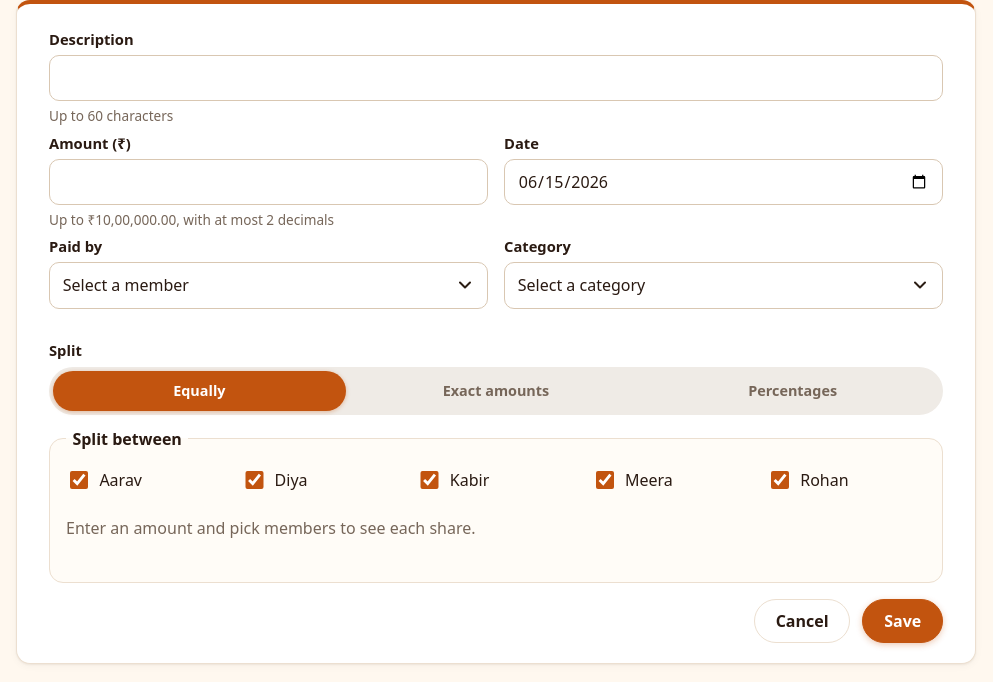
Scenario: ExpenseForm › clears an error once the field is fixed
The width and height of the screenshot is (993, 682).
Click the button "Save" at coordinates (903, 621), box x1=862 y1=599 x2=943 y2=643
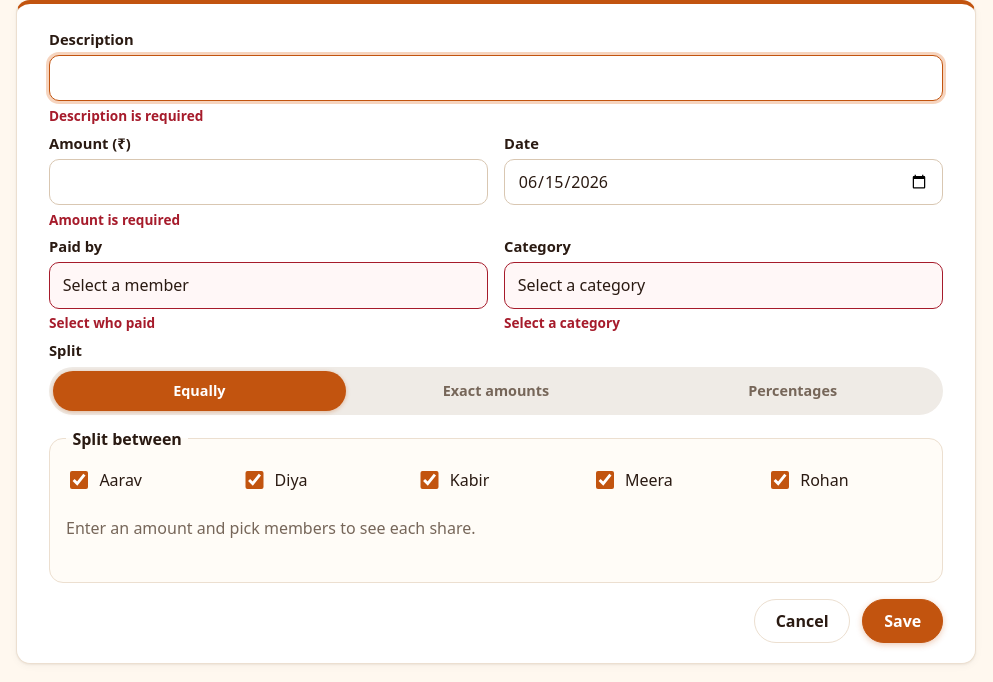
expect the text "Description is required" is shown: met, box x1=49 y1=106 x2=203 y2=125
Type "Taxi" into the field labelled "Description" at coordinates (496, 78), box x1=49 y1=55 x2=943 y2=101
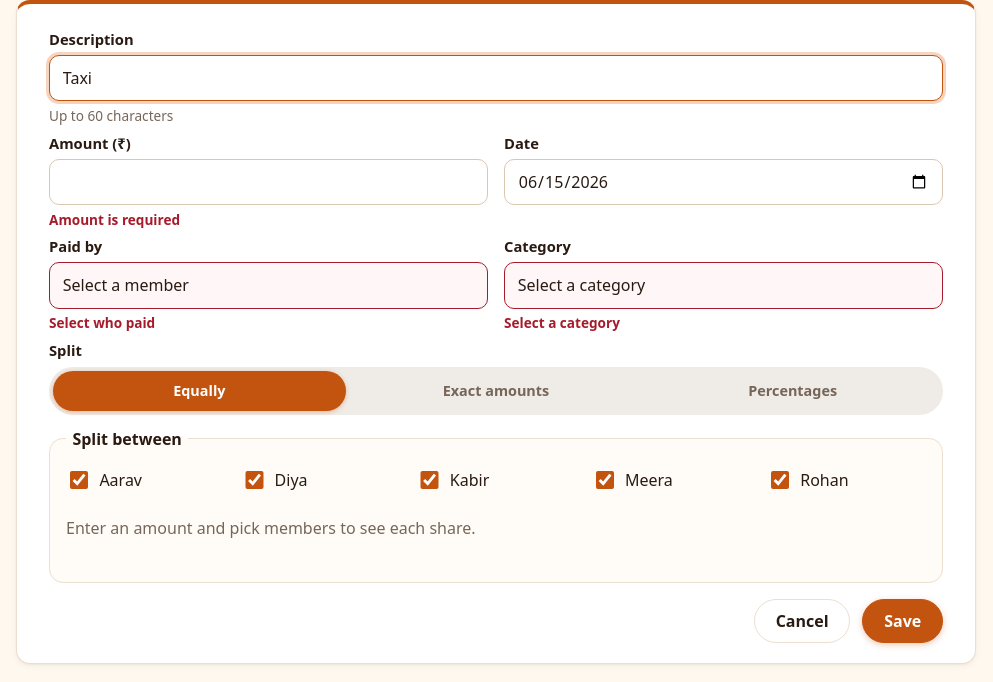
expect the text "Description is required" is gone: met
